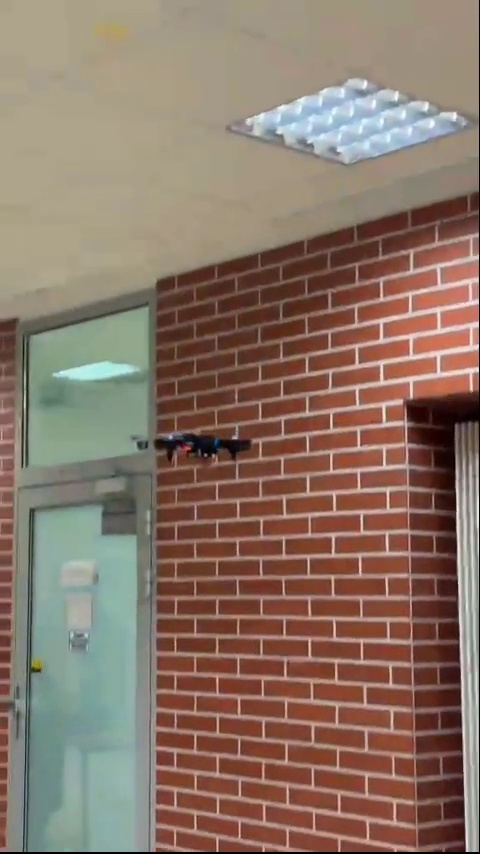drone: (151, 419, 253, 468)
